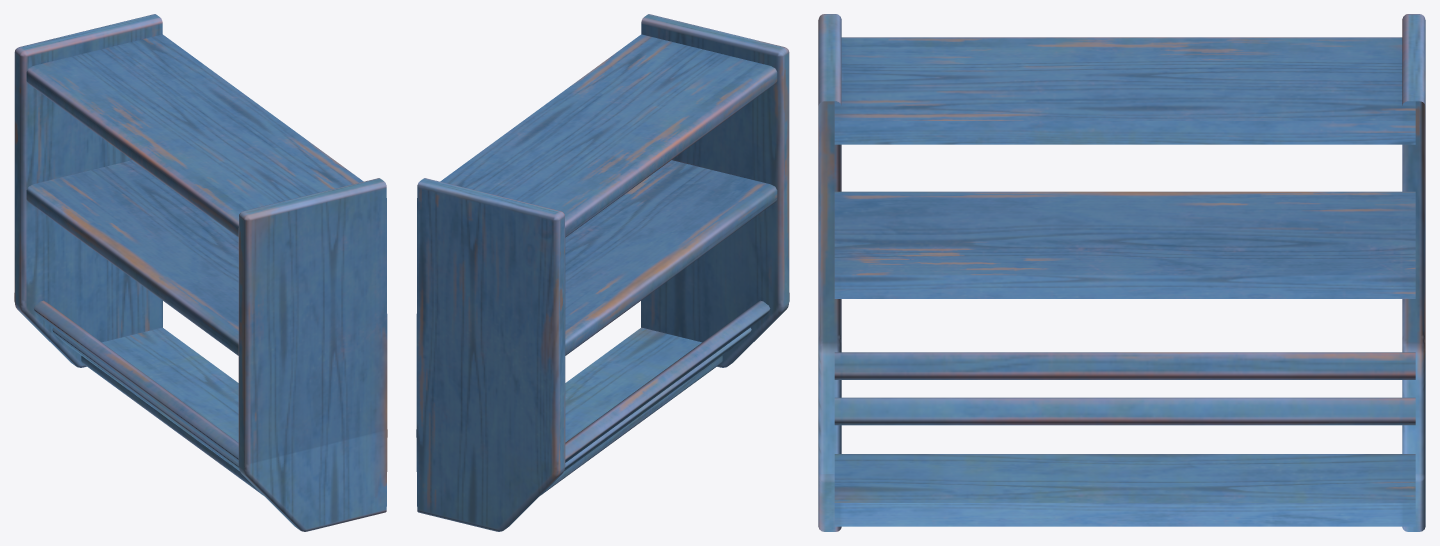
The model's file is SM_Shelf_01.fbx.
The picture shows the model from 3 angles, left to right: view 1: azimuth 30°, elevation 25°; view 2: azimuth 150°, elevation 25°; view 3: azimuth 270°, elevation 25°; orthographic projection. The views are drawn at different scales.
Visible parts, largest first — view 1: SM_Shelf_01_LOD0; view 2: SM_Shelf_01_LOD0; view 3: SM_Shelf_01_LOD0.
Part boxes in pixels (<box>): SM_Shelf_01_LOD0: <box>14,14,387,531</box>; SM_Shelf_01_LOD0: <box>416,14,789,531</box>; SM_Shelf_01_LOD0: <box>818,14,1425,531</box>.
Bounding box in the file's own units: 28.73 × 82 × 64.19.
1 material, 1 textured.
